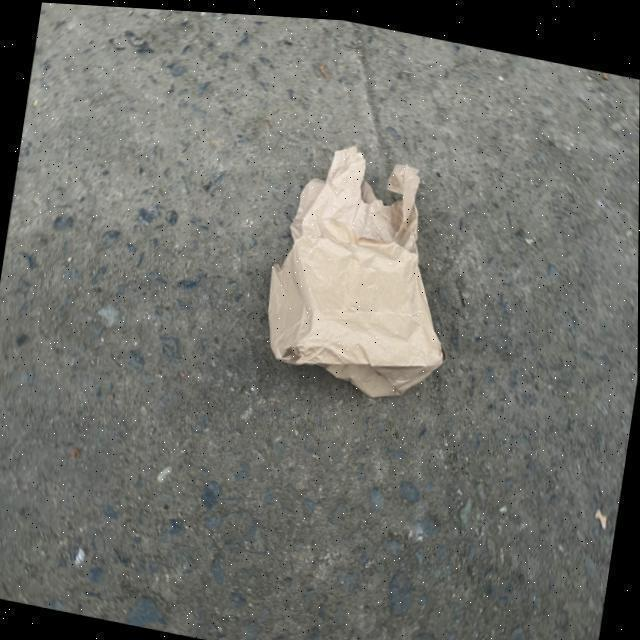Paper_Bag: (258, 134, 471, 408)
